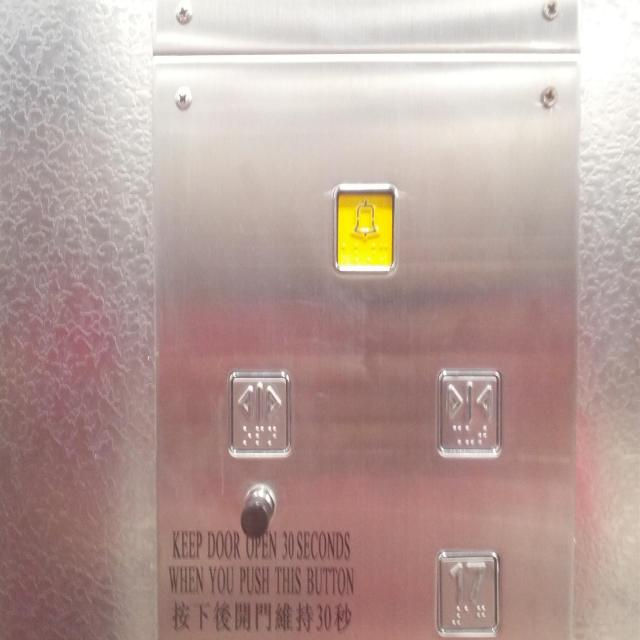17: (436, 551, 500, 635)
alarm: (333, 184, 397, 274)
close: (436, 368, 501, 457)
empty: (239, 485, 275, 537)
open: (228, 371, 290, 454)
